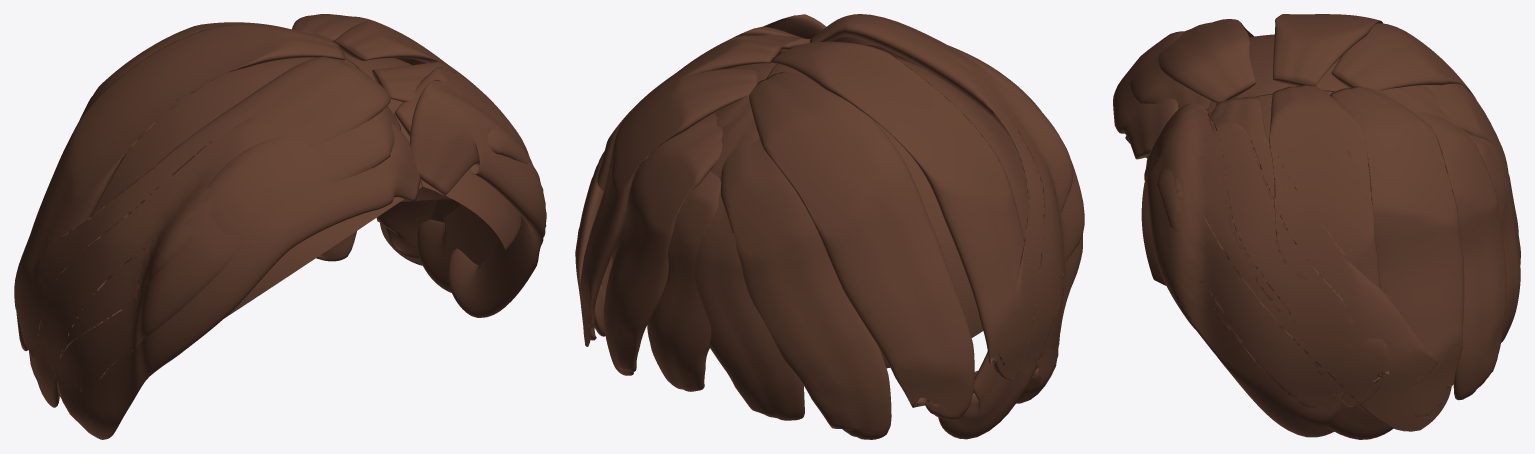
Rendered from Masculine-flow-pashmina260-hair.glb.
3 renders of one model, left to right at view 1: azimuth 30°, elevation 25°; view 2: azimuth 150°, elevation 25°; view 3: azimuth 270°, elevation 25°, orthographic. The views are drawn at different scales.
Visible parts, largest first — view 1: 226 hair / Hair260 / layered flow; view 2: 226 hair / Hair260 / layered flow; view 3: 226 hair / Hair260 / layered flow.
Boxes of the visible parts, x1,y1,x2,y2 form: 226 hair / Hair260 / layered flow: (14,14,546,439); 226 hair / Hair260 / layered flow: (575,14,1084,439); 226 hair / Hair260 / layered flow: (1113,14,1520,439).
Size of the model in its own units: 1.07 by 0.7622 by 0.87.
